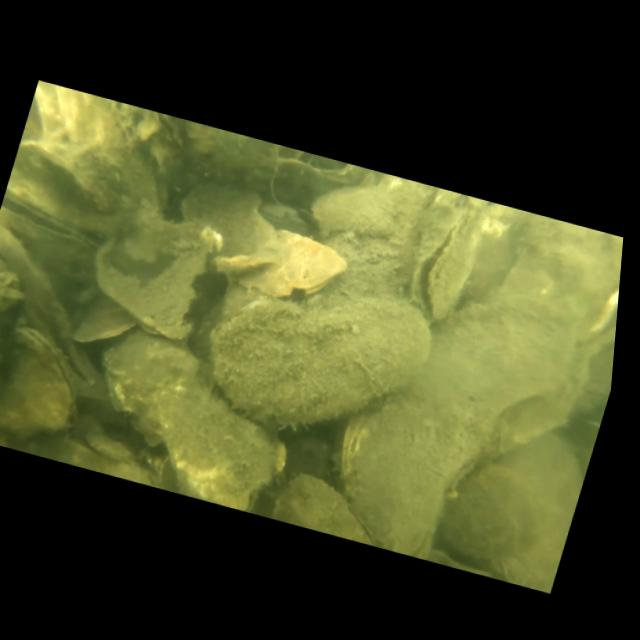Oyster-Closed: (218, 217, 357, 317), (0, 319, 99, 436), (111, 103, 198, 175)
Oyster-Indeterminate: (317, 258, 613, 588), (190, 255, 447, 457), (61, 323, 315, 517), (432, 406, 598, 595), (75, 192, 236, 347), (162, 173, 297, 284), (272, 462, 391, 546), (6, 131, 120, 209), (305, 171, 413, 251), (175, 121, 284, 198), (64, 288, 144, 357)
Oyster-Open: (393, 185, 492, 326), (0, 186, 112, 258)
